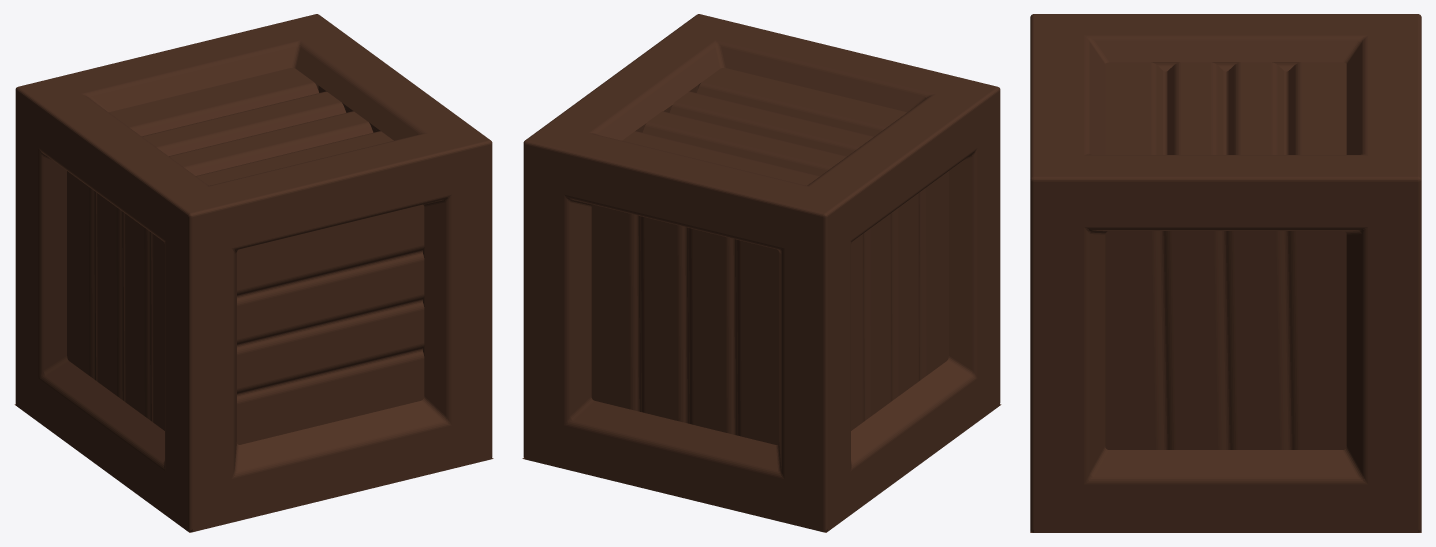
Rendered from caixamadeira1.fbx.
The picture shows the model from 3 angles, left to right: view 1: azimuth 30°, elevation 25°; view 2: azimuth 150°, elevation 25°; view 3: azimuth 270°, elevation 25°; orthographic projection. The views are drawn at different scales.
Parts seen in each view (by area): view 1: Cube.006; view 2: Cube.006; view 3: Cube.006.
Part boxes in pixels (x1,y1,x2,y2): Cube.006: (14, 14, 493, 532); Cube.006: (522, 14, 1001, 532); Cube.006: (1030, 14, 1421, 532).
Bounding box in the file's own units: 54.92 × 54.92 × 54.92.
